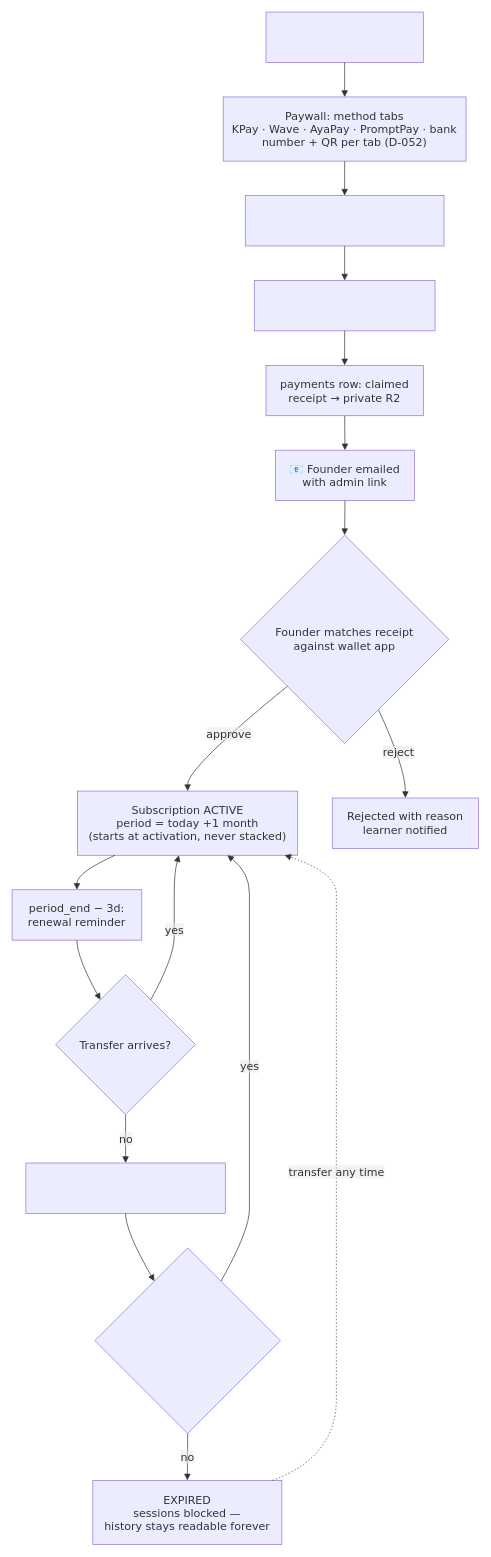
This 491x1557 diagram has some shape labels left out. The centre of each missing label's shape, as x and y in pixels:
GRACE — 3 days access continues, banner shown: the point at 125,1187
Learner transfers in wallet app, screenshots receipt: the point at 344,220
Placement session ends (free, R-ON-6): the point at 344,36
Taps 'I have paid' + uploads receipt (required): the point at 344,305
Transfer within grace?: the point at 187,1340
